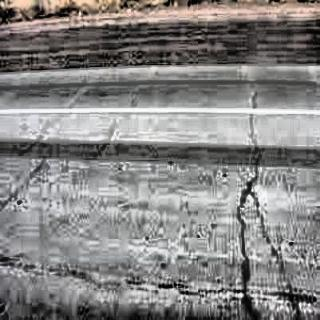crack: (255, 200, 298, 315), (237, 184, 262, 320), (246, 80, 264, 187)
